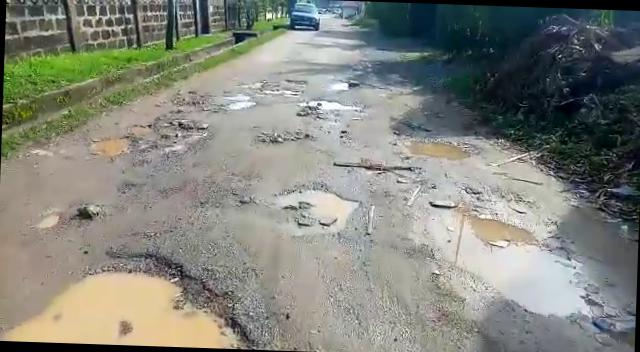pothole: (0, 244, 272, 350), (411, 210, 599, 318), (90, 112, 214, 166), (270, 182, 358, 234), (396, 133, 482, 164), (335, 160, 424, 181), (292, 97, 354, 116), (254, 128, 316, 146), (220, 92, 259, 112), (428, 200, 458, 210), (279, 77, 310, 84)
